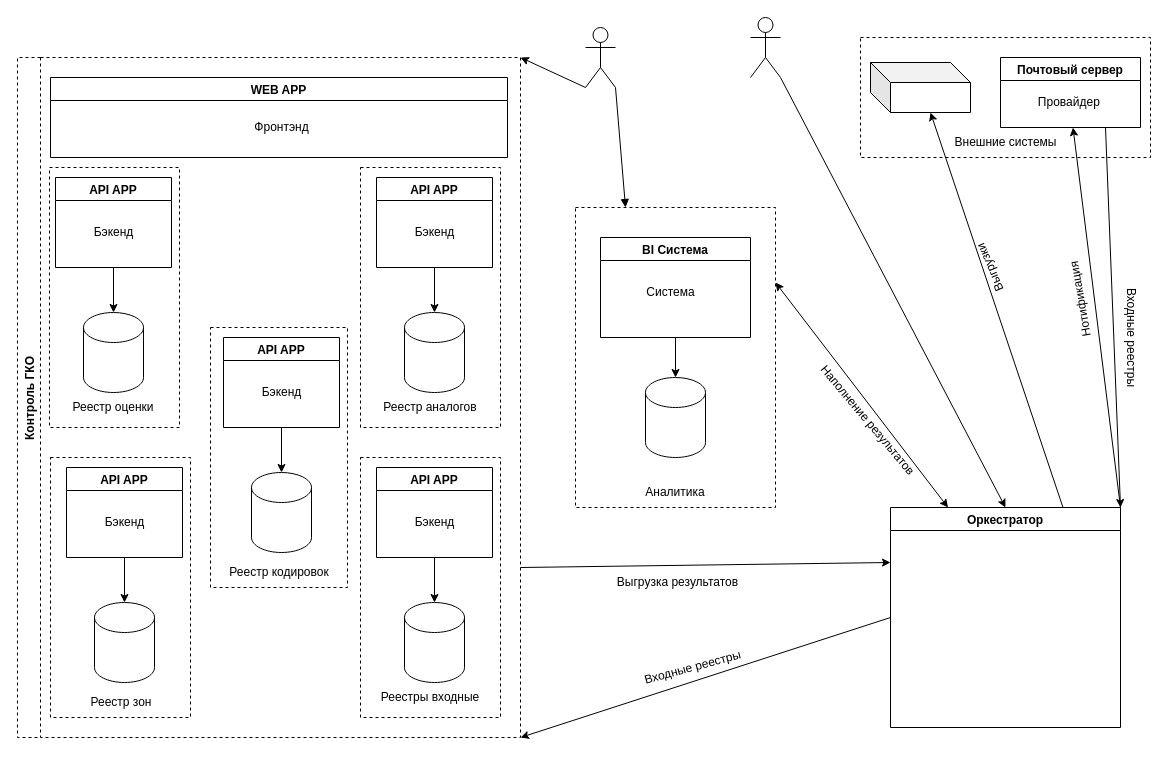
This 1168x763 diagram has some shape labels left out. Each missing label, with the centre of its shape:
Shared folder: the point at 920,87
Администратор: the point at 765,47
Пользователь: the point at 600,57
